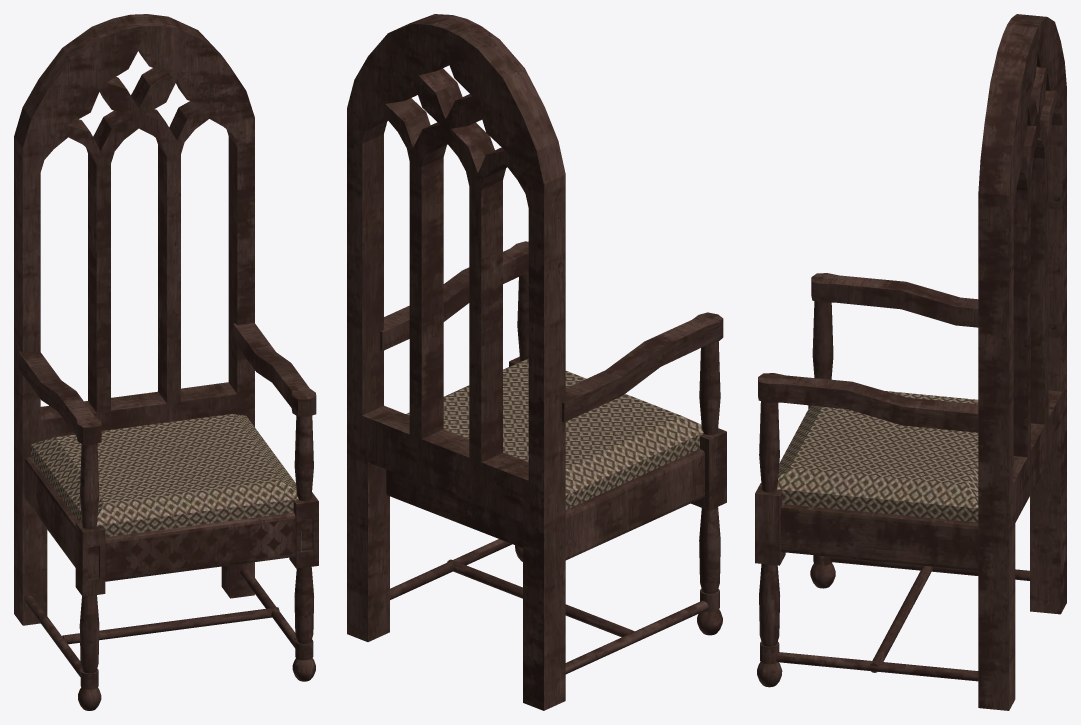
The model's file is Furn_Chair_3.glb.
The picture shows the model from 3 angles, left to right: view 1: azimuth 30°, elevation 25°; view 2: azimuth 150°, elevation 25°; view 3: azimuth 270°, elevation 25°; orthographic projection. The views are drawn at different scales.
Visible parts, largest first — view 1: Furn_Chair_3; view 2: Furn_Chair_3; view 3: Furn_Chair_3.
Part boxes in pixels (x1=…): Furn_Chair_3: x1=14, y1=14, x2=318, y2=710; Furn_Chair_3: x1=347, y1=14, x2=726, y2=710; Furn_Chair_3: x1=755, y1=14, x2=1066, y2=710.
Size of the model in its own units: 0.5319 by 1.17 by 0.5245.
Materials: 1 (1 with a texture image).
